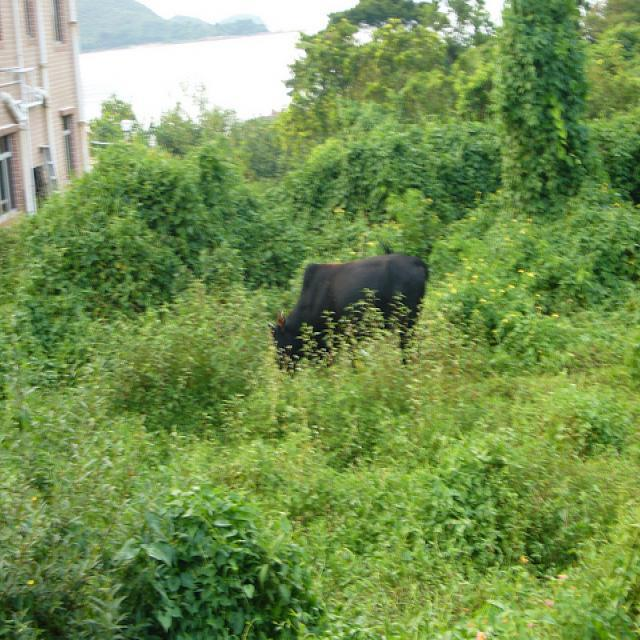cow: (266, 251, 428, 371)
